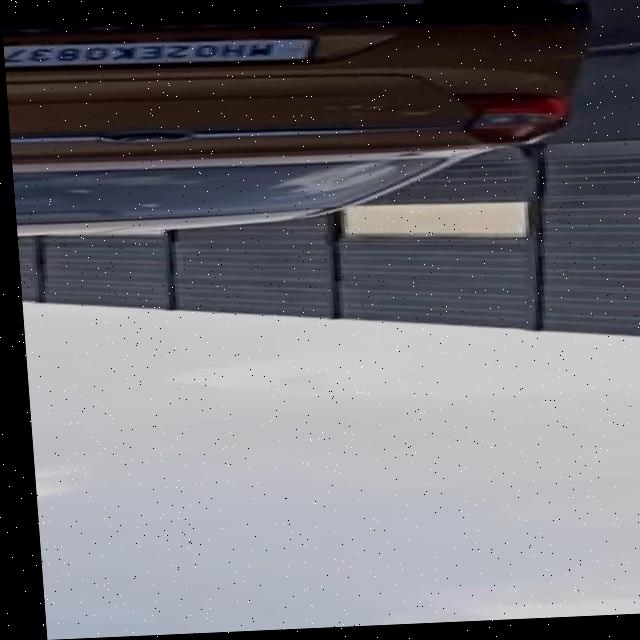plate: (3, 33, 318, 78)
